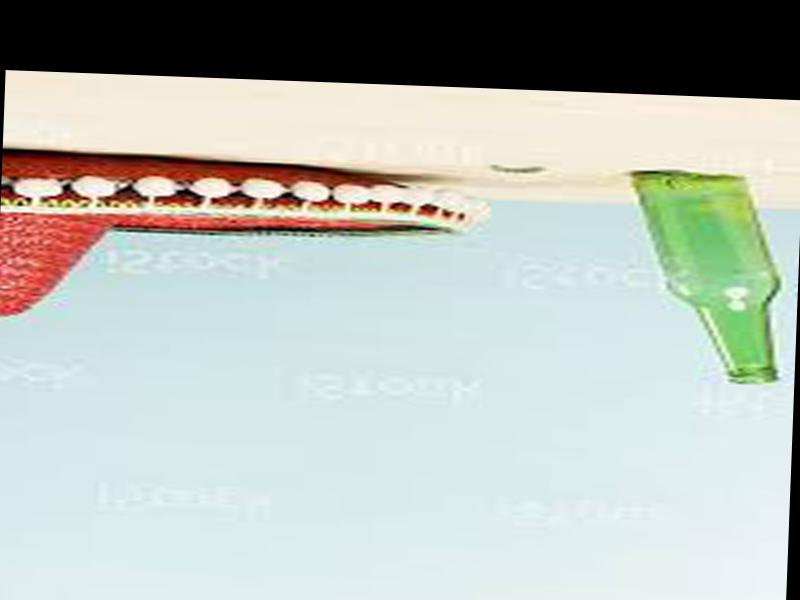Beer: (619, 165, 781, 386)
